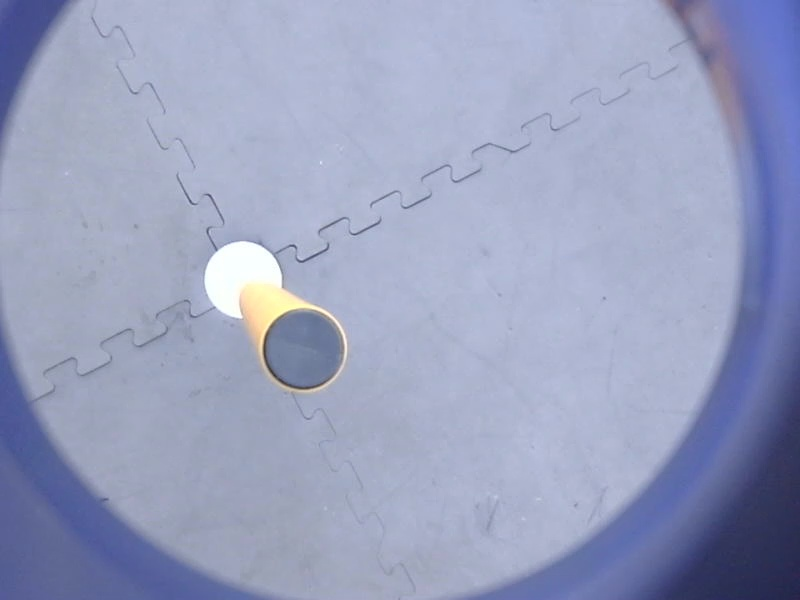tip: (255, 302, 354, 400)
